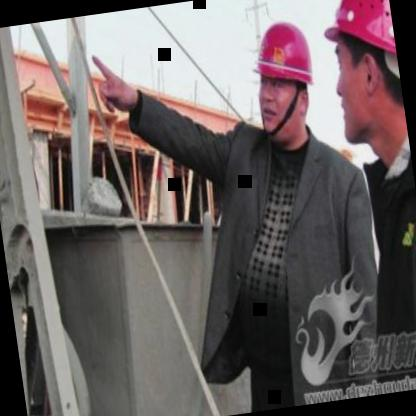helmet: (306, 0, 410, 170), (237, 0, 328, 158)
